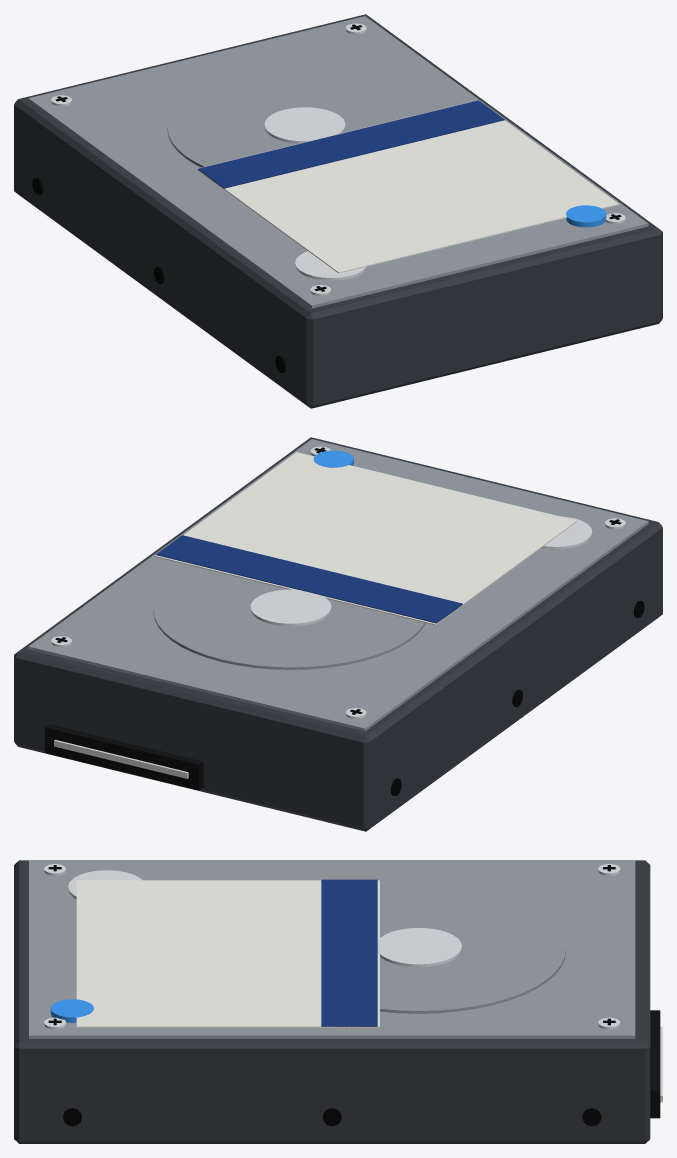
File: hw_sto_hdd_20tb.glb
3 renders of one model, top to bottom at view 1: azimuth 30°, elevation 25°; view 2: azimuth 150°, elevation 25°; view 3: azimuth 270°, elevation 25°, orthographic. The views are drawn at different scales.
Visible parts, largest first — view 1: Body; view 2: Body; view 3: Body.
Boxes of the visible parts, x1,y1,x2,y2 form: Body: (14,14,662,408); Body: (14,437,662,831); Body: (14,860,662,1143).
Bounding box in the file's own units: 0.1028 × 0.0284 × 0.1499.
